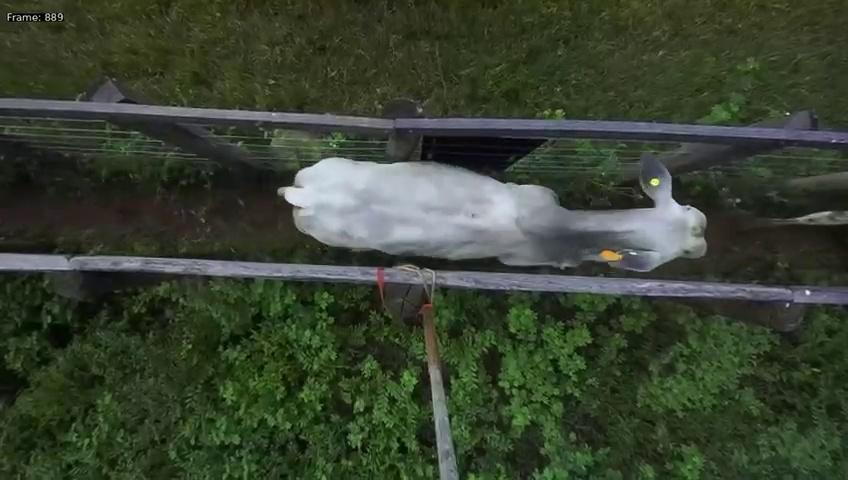cattle: (277, 145, 709, 273)
